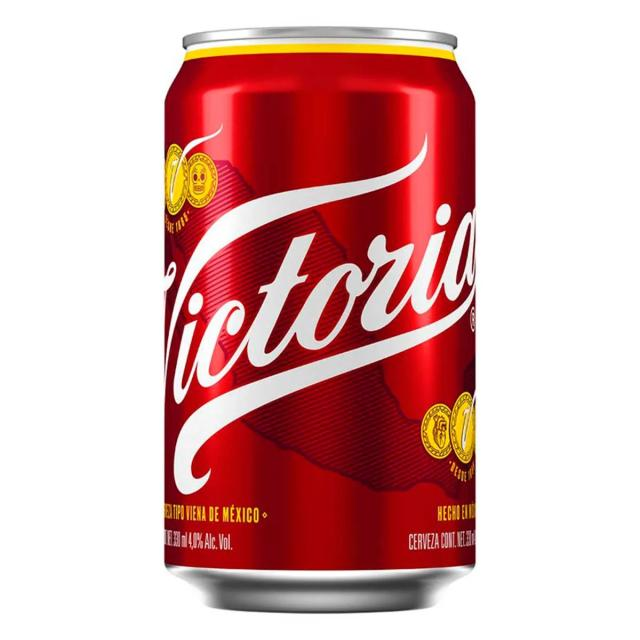Lata: (163, 27, 478, 618)
